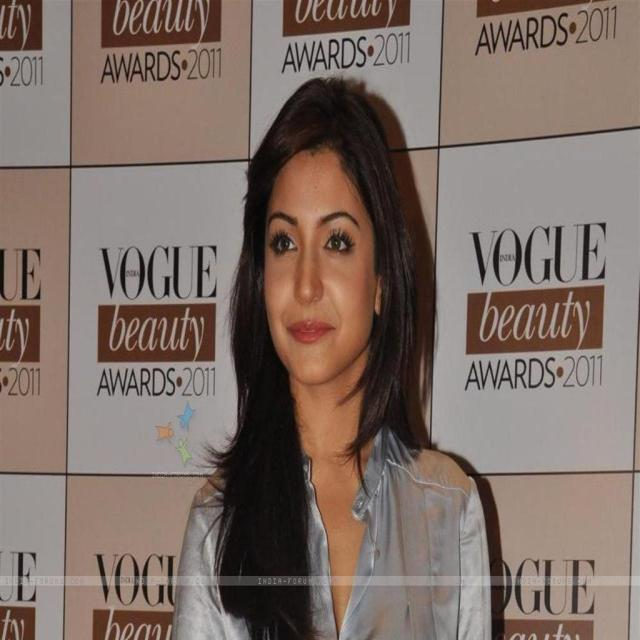Face: (254, 154, 388, 383)
